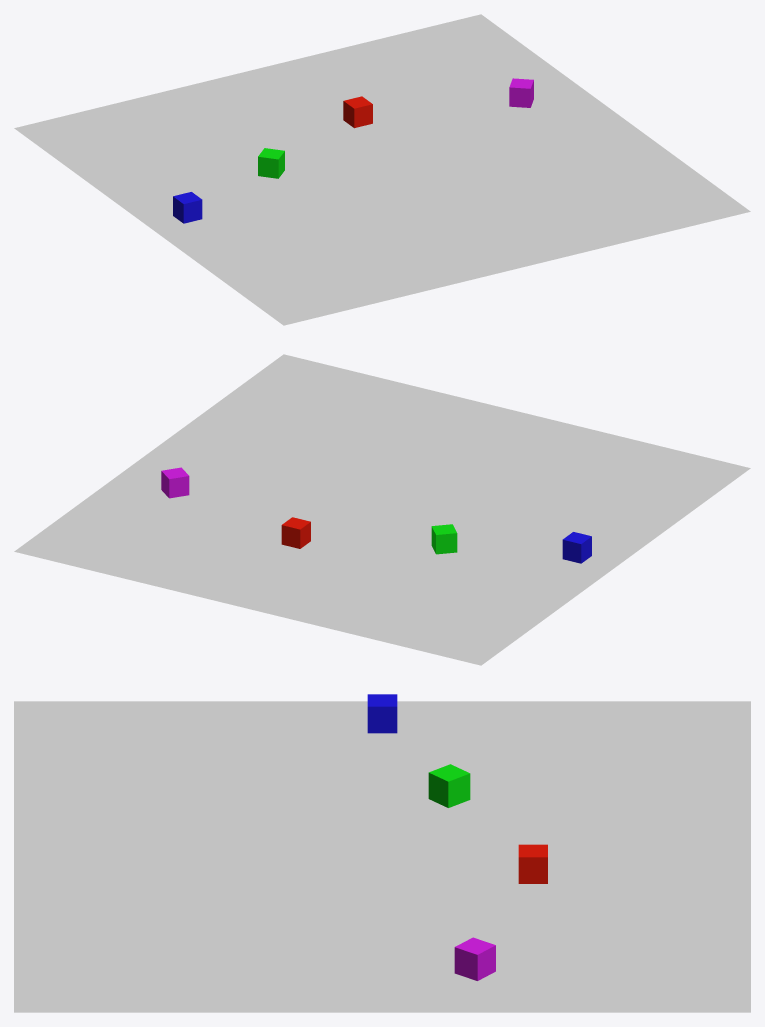
The model's file is testscene.glb.
The picture shows the model from 3 angles, top to bottom: view 1: azimuth 30°, elevation 25°; view 2: azimuth 150°, elevation 25°; view 3: azimuth 270°, elevation 25°; orthographic projection. The views are drawn at different scales.
Parts seen in each view (by area): view 1: Plane, box1, box3, box2, box4; view 2: Plane, box1, box3, box4, box2; view 3: Plane, box2, box4, box3, box1.
Boxes of the visible parts, x1=… form: Plane: x1=14, y1=14, x2=750, y2=325; box1: x1=343, y1=96, x2=372, y2=128; box3: x1=173, y1=192, x2=202, y2=223; box2: x1=258, y1=148, x2=284, y2=178; box4: x1=509, y1=78, x2=533, y2=107; Plane: x1=14, y1=354, x2=750, y2=665; box1: x1=281, y1=517, x2=310, y2=548; box3: x1=562, y1=532, x2=591, y2=563; box4: x1=161, y1=467, x2=189, y2=498; box2: x1=431, y1=524, x2=457, y2=554; Plane: x1=14, y1=701, x2=750, y2=1012; box2: x1=428, y1=764, x2=470, y2=807; box4: x1=454, y1=937, x2=495, y2=980; box3: x1=367, y1=694, x2=397, y2=733; box1: x1=518, y1=844, x2=547, y2=883.
Size of the model in its own units: 50 by 2.03 by 50.
